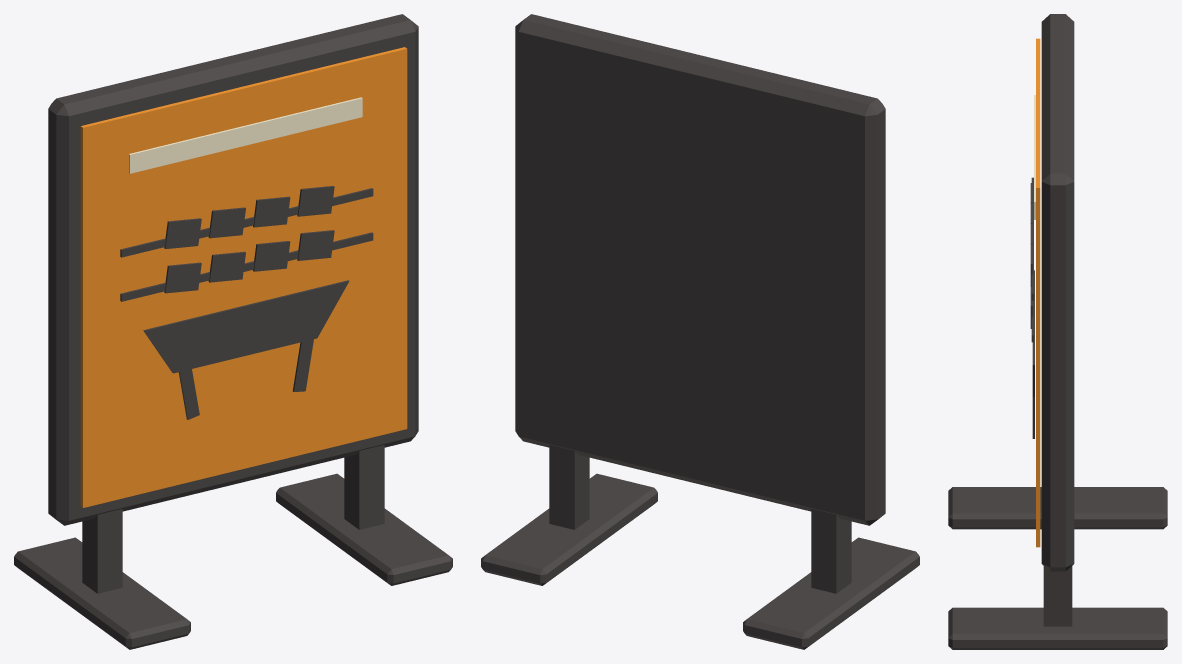
File: posters.glb
3 renders of one model, left to right at view 1: azimuth 30°, elevation 25°; view 2: azimuth 150°, elevation 25°; view 3: azimuth 270°, elevation 25°, orthographic. The views are drawn at different scales.
Parts seen in each view (by area): view 1: posters; view 2: posters; view 3: posters.
Boxes of the visible parts, <box> form: posters: <box>14,14,452,649</box>; posters: <box>481,14,919,649</box>; posters: <box>948,14,1167,649</box>.
Size of the model in its own units: 0.36 by 0.485 by 0.2.
